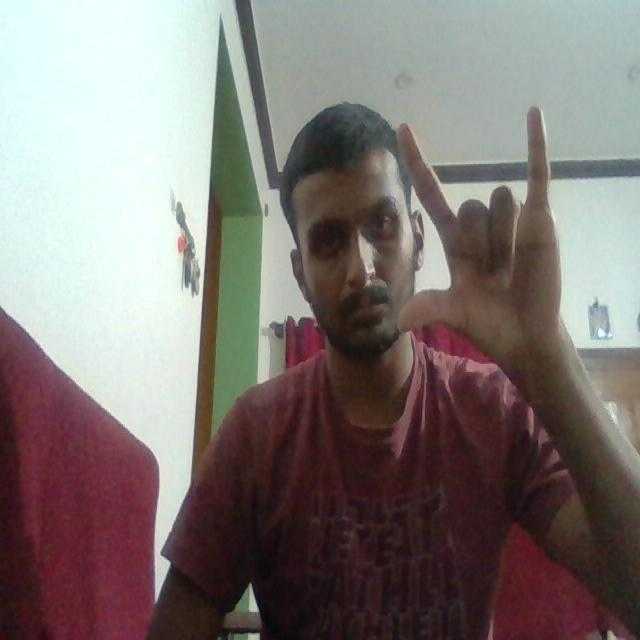iloveyou: (367, 106, 591, 352)
